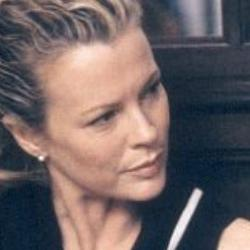face: (1, 3, 186, 201)
